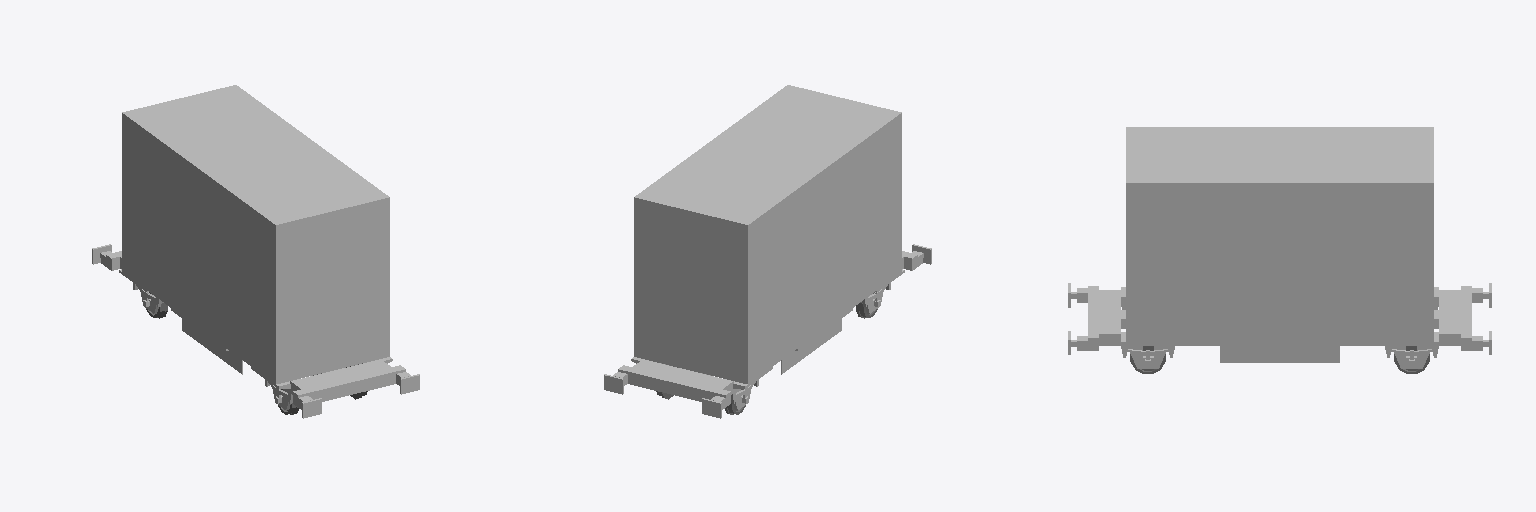
The model's file is dlxtrains_industrial_wagons_container_type2_loaded.obj.
3 views of the same model, side by side, from view 1: azimuth 30°, elevation 25°; view 2: azimuth 150°, elevation 25°; view 3: azimuth 270°, elevation 25° (orthographic).
Visible parts, largest first — view 1: dlxtrains_industrial_wagons_container_type2_loaded; view 2: dlxtrains_industrial_wagons_container_type2_loaded; view 3: dlxtrains_industrial_wagons_container_type2_loaded.
Part boxes in pixels (left/top/right/bottom): dlxtrains_industrial_wagons_container_type2_loaded: left=92, top=85, right=419, bottom=418; dlxtrains_industrial_wagons_container_type2_loaded: left=604, top=85, right=931, bottom=418; dlxtrains_industrial_wagons_container_type2_loaded: left=1068, top=127, right=1491, bottom=373.
Size of the model in its own units: 15.38 by 25.36 by 48.12.